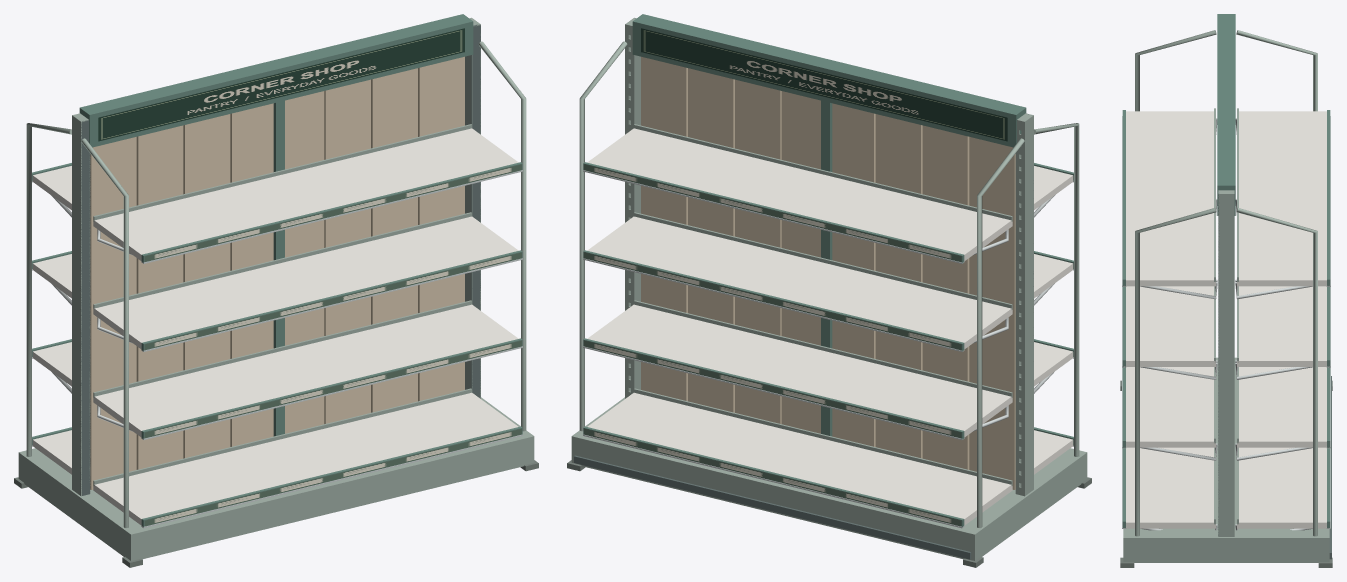
File: gondola-tall.glb
3 views of the same model, side by side, from view 1: azimuth 30°, elevation 25°; view 2: azimuth 150°, elevation 25°; view 3: azimuth 270°, elevation 25° (orthographic). The views are drawn at different scales.
Parts seen in each view (by area): view 1: library-equipment-gondola-tall-product-equipment-cream, library-equipment-gondola-tall-product-equipment-birch, library-equipment-gondola-tall-product-equipment-sage, library-equipment-gondola-tall-product-equipment-forest, library-equipment-gondola-tall-product-label-equipment-displ, library-equipment-gondola-tall-gondola-tall-category-sign-1, library-equipment-gondola-tall-product-equipment-dark, library-equipment-gondola-tall-product-equipment-steel; view 2: library-equipment-gondola-tall-product-equipment-cream, library-equipment-gondola-tall-product-equipment-birch, library-equipment-gondola-tall-product-equipment-sage, library-equipment-gondola-tall-product-equipment-forest, library-equipment-gondola-tall-product-label-equipment-displ, library-equipment-gondola-tall-gondola-tall-category-sign--1, library-equipment-gondola-tall-product-equipment-steel, library-equipment-gondola-tall-product-equipment-dark; view 3: library-equipment-gondola-tall-product-equipment-cream, library-equipment-gondola-tall-product-equipment-sage, library-equipment-gondola-tall-product-equipment-forest, library-equipment-gondola-tall-product-equipment-steel, library-equipment-gondola-tall-product-equipment-dark.
Boxes of the visible parts, left/top/right/bottom form: library-equipment-gondola-tall-product-equipment-cream: left=32, top=128, right=518, bottom=525; library-equipment-gondola-tall-product-equipment-birch: left=90, top=56, right=464, bottom=489; library-equipment-gondola-tall-product-equipment-sage: left=18, top=17, right=534, bottom=560; library-equipment-gondola-tall-product-equipment-forest: left=32, top=14, right=522, bottom=526; library-equipment-gondola-tall-product-label-equipment-displ: left=144, top=164, right=521, bottom=526; library-equipment-gondola-tall-gondola-tall-category-sign-1: left=98, top=28, right=464, bottom=141; library-equipment-gondola-tall-product-equipment-dark: left=80, top=24, right=480, bottom=495; library-equipment-gondola-tall-product-equipment-steel: left=32, top=170, right=522, bottom=528; library-equipment-gondola-tall-product-equipment-cream: left=587, top=128, right=1073, bottom=525; library-equipment-gondola-tall-product-equipment-birch: left=641, top=56, right=1015, bottom=489; library-equipment-gondola-tall-product-equipment-sage: left=571, top=17, right=1087, bottom=560; library-equipment-gondola-tall-product-equipment-forest: left=583, top=14, right=1073, bottom=527; library-equipment-gondola-tall-product-label-equipment-displ: left=584, top=164, right=961, bottom=526; library-equipment-gondola-tall-gondola-tall-category-sign--1: left=641, top=28, right=1007, bottom=141; library-equipment-gondola-tall-product-equipment-steel: left=583, top=170, right=1073, bottom=528; library-equipment-gondola-tall-product-equipment-dark: left=574, top=18, right=1033, bottom=559; library-equipment-gondola-tall-product-equipment-cream: left=1126, top=111, right=1326, bottom=528; library-equipment-gondola-tall-product-equipment-sage: left=1123, top=30, right=1329, bottom=562; library-equipment-gondola-tall-product-equipment-forest: left=1122, top=14, right=1330, bottom=528; library-equipment-gondola-tall-product-equipment-steel: left=1122, top=116, right=1330, bottom=530; library-equipment-gondola-tall-product-equipment-dark: left=1218, top=193, right=1331, bottom=559.
Size of the model in its own units: 2.04 by 1.96 by 1.
Materials: 10 (3 with a texture image).
